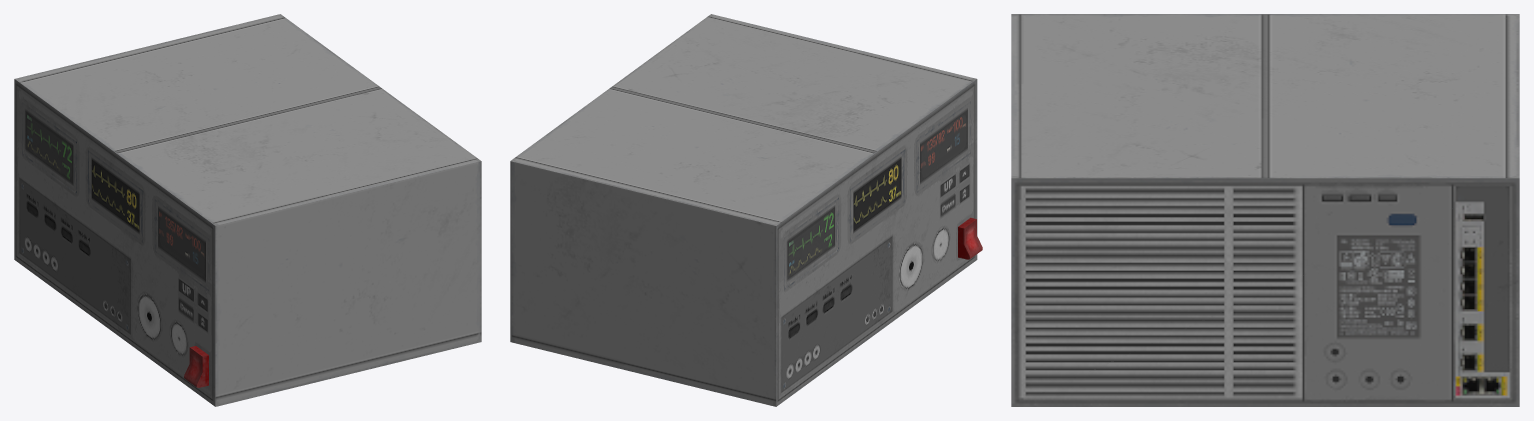
Rendered from HH_Medical_Device_01.fbx.
3 views of the same model, side by side, from view 1: azimuth 30°, elevation 25°; view 2: azimuth 150°, elevation 25°; view 3: azimuth 270°, elevation 25° (orthographic). The views are drawn at different scales.
Visible parts, largest first — view 1: HH_Medical_Device_01; view 2: HH_Medical_Device_01; view 3: HH_Medical_Device_01.
Boxes of the visible parts, <box> form: HH_Medical_Device_01: <box>14,14,481,406</box>; HH_Medical_Device_01: <box>510,14,982,406</box>; HH_Medical_Device_01: <box>1011,14,1519,406</box>.
Size of the model in its own units: 44.64 by 27.75 by 55.86.
